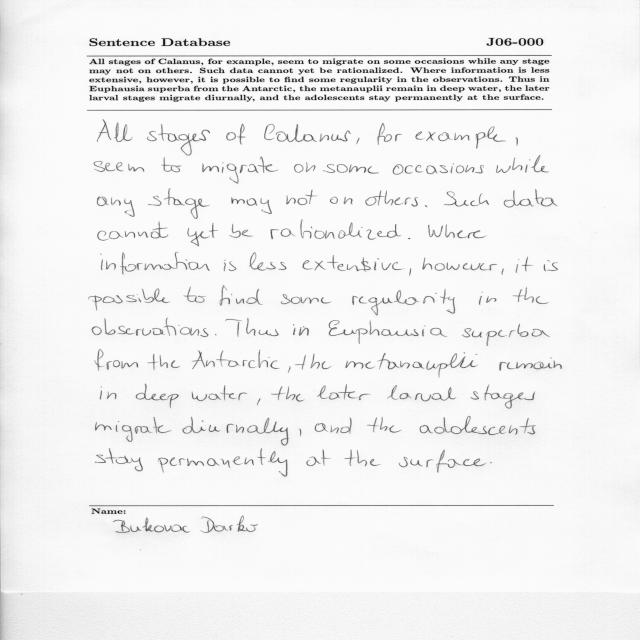word: (158, 449, 288, 477), (346, 352, 478, 378), (182, 417, 289, 446), (329, 320, 448, 344), (352, 289, 455, 316), (270, 220, 401, 240), (100, 253, 210, 275), (93, 318, 209, 337), (420, 416, 536, 435), (202, 157, 278, 184), (398, 450, 486, 473), (147, 124, 210, 156), (416, 127, 507, 149), (462, 324, 550, 346), (96, 417, 171, 442), (148, 189, 210, 219), (88, 289, 170, 311), (303, 255, 405, 272), (192, 350, 279, 369), (264, 124, 351, 142), (471, 385, 536, 409), (98, 222, 168, 241), (387, 385, 456, 401), (95, 449, 143, 472), (393, 163, 484, 175), (136, 384, 179, 408), (504, 189, 558, 208), (225, 318, 279, 337), (423, 258, 498, 271), (496, 155, 549, 173), (96, 350, 139, 371), (366, 190, 419, 207), (192, 385, 248, 401), (428, 224, 487, 239), (219, 286, 263, 306), (317, 385, 370, 401), (499, 358, 562, 371), (98, 119, 133, 142), (97, 196, 135, 217), (188, 223, 219, 246), (231, 197, 272, 214), (444, 192, 489, 207), (249, 253, 286, 271), (512, 287, 549, 304), (295, 353, 331, 370), (315, 418, 352, 434), (344, 450, 381, 466), (323, 164, 379, 174), (367, 417, 402, 433), (377, 123, 402, 145), (94, 161, 144, 172), (148, 354, 180, 370), (281, 294, 332, 304), (271, 387, 305, 402), (286, 190, 318, 205), (306, 450, 331, 467), (226, 124, 246, 145), (184, 286, 206, 303), (230, 224, 253, 238), (161, 157, 182, 172), (516, 256, 533, 273), (294, 162, 316, 173), (479, 292, 496, 305), (101, 387, 117, 400), (293, 324, 309, 336), (330, 197, 353, 205), (544, 261, 558, 272), (224, 260, 236, 271), (515, 137, 518, 146), (501, 268, 504, 275), (288, 366, 291, 373), (257, 399, 260, 406), (357, 138, 360, 144), (410, 268, 412, 276), (299, 429, 301, 437), (425, 206, 427, 208), (408, 238, 410, 239), (490, 462, 492, 463), (215, 334, 216, 335)
